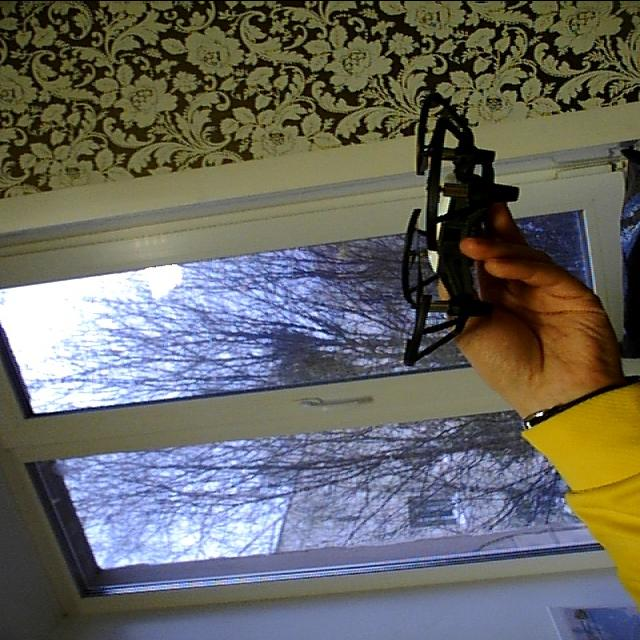drone: (367, 87, 538, 366)
